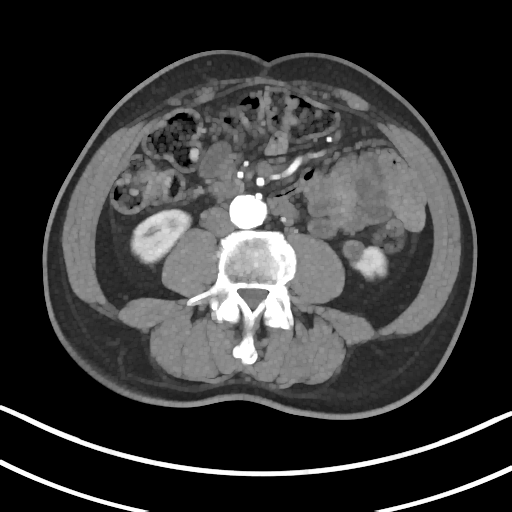Lesion: (339, 237, 367, 266)
